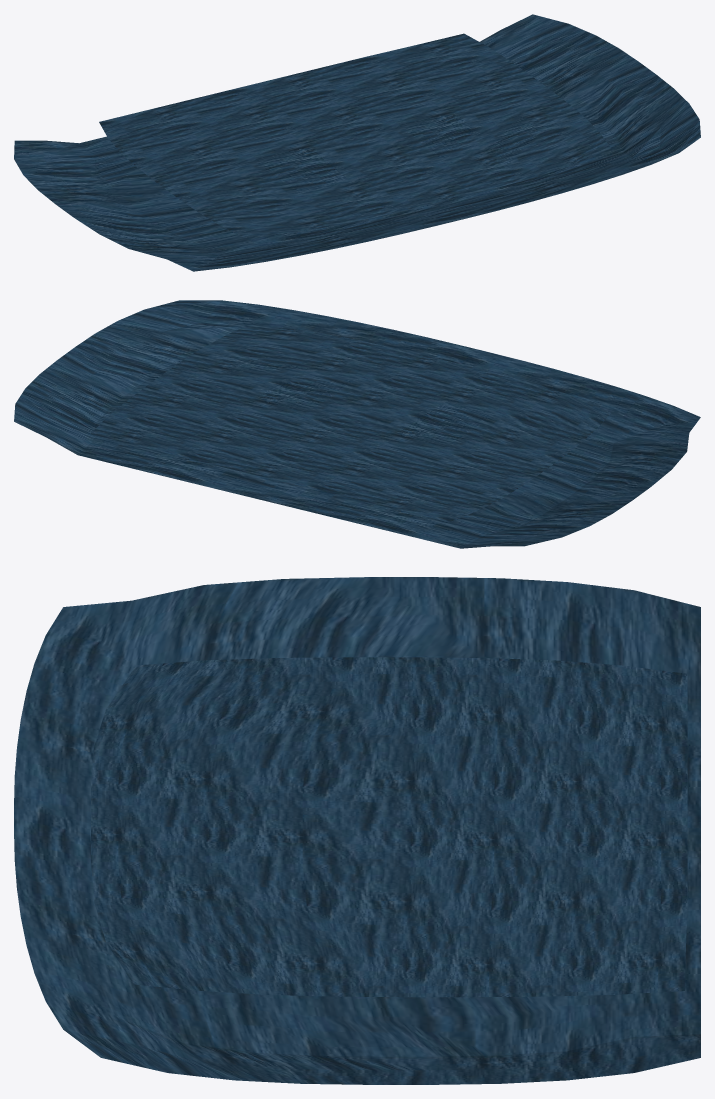
Rendered from sea.obj.
3 renders of one model, top to bottom at view 1: azimuth 30°, elevation 25°; view 2: azimuth 150°, elevation 25°; view 3: azimuth 270°, elevation 25°, orthographic. The views are drawn at different scales.
Visible parts, largest first — view 1: Plane.001, Plane; view 2: Plane.001, Plane; view 3: Plane.001, Plane.
Boxes of the visible parts, x1,y1,x2,y2 form: Plane.001: [99, 33, 610, 237]; Plane: [14, 14, 700, 271]; Plane.001: [91, 324, 610, 522]; Plane: [14, 300, 700, 548]; Plane.001: [91, 657, 687, 997]; Plane: [14, 577, 700, 1084].
Bounding box in the file's own units: 1034 × 34.14 × 591.
